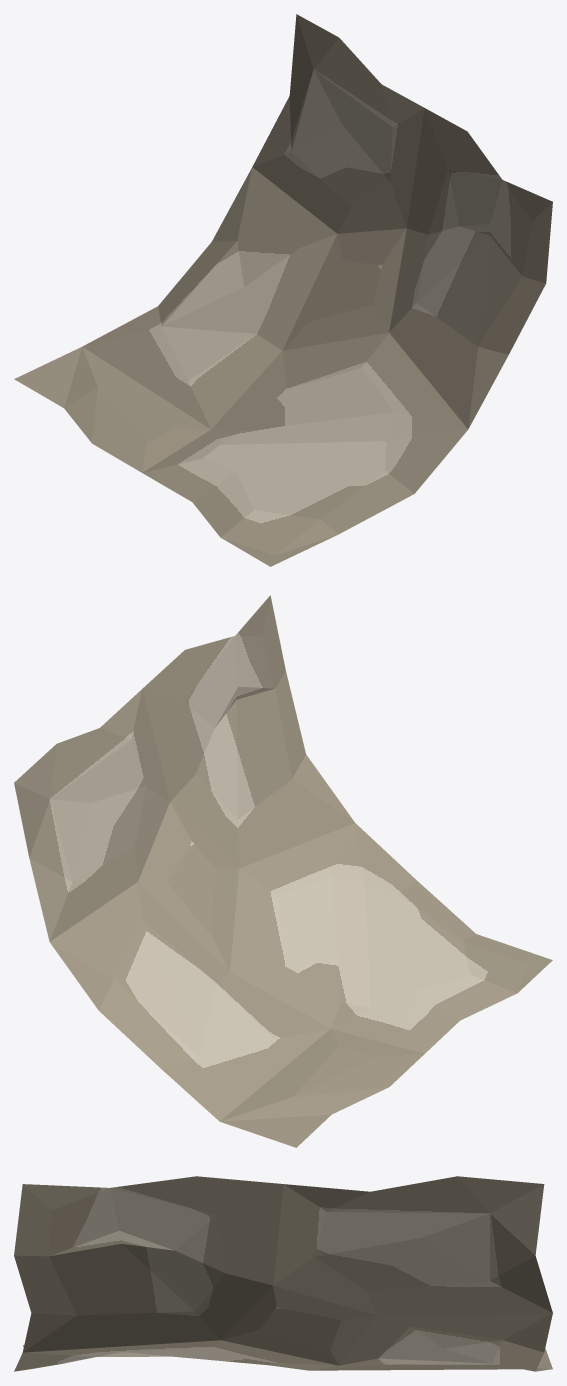
File: StrongArch_02.fbx
3 renders of one model, top to bottom at view 1: azimuth 30°, elevation 25°; view 2: azimuth 150°, elevation 25°; view 3: azimuth 270°, elevation 25°, orthographic.
Parts seen in each view (by area): view 1: StrongArch_02; view 2: StrongArch_02; view 3: StrongArch_02.
Part boxes in pixels (x1,y1,x2,y2): StrongArch_02: (14, 14, 552, 566); StrongArch_02: (14, 595, 552, 1147); StrongArch_02: (14, 1176, 552, 1371).
Bounding box in the file's own units: 65.28 × 65.42 × 103.
1 material, 1 textured.
